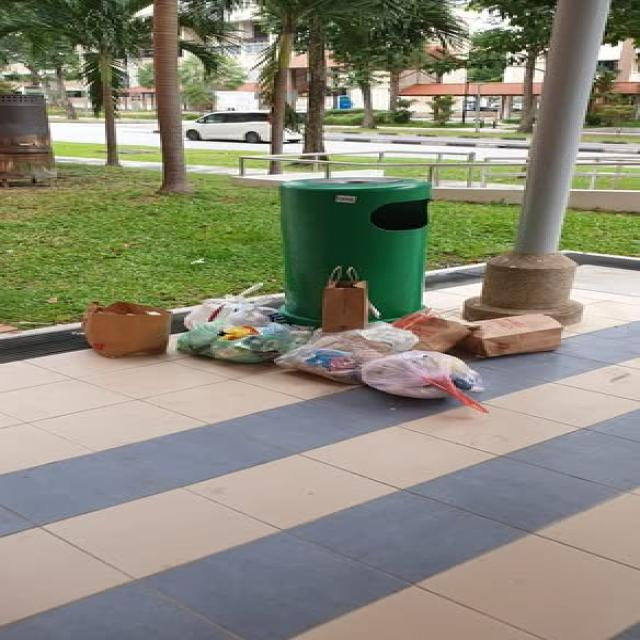bin_empty: (276, 180, 428, 326)
normal_waste: (176, 290, 306, 364), (360, 351, 476, 398), (81, 300, 171, 358), (456, 312, 566, 358), (274, 336, 379, 383), (353, 321, 419, 352), (256, 322, 292, 340)
